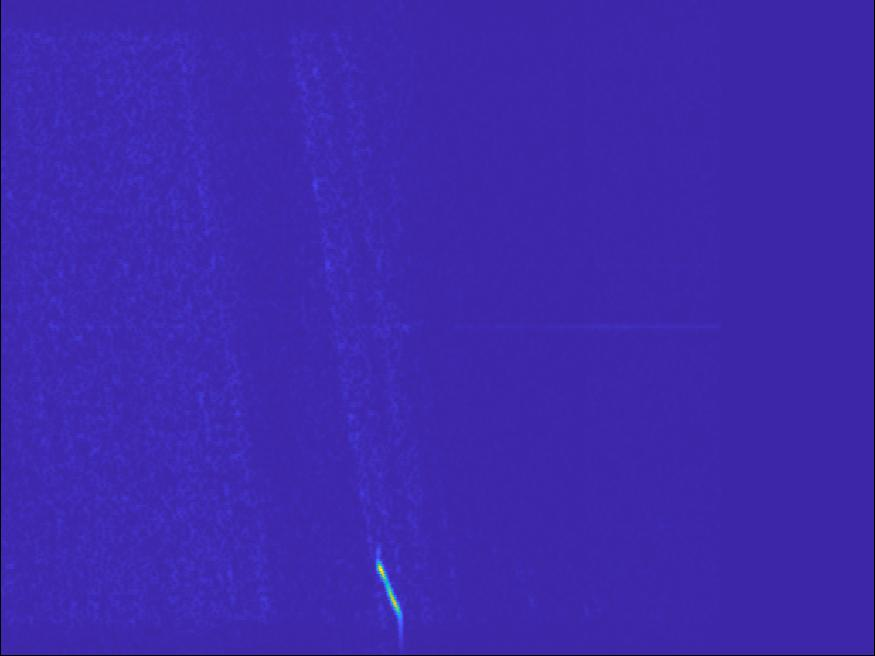Interference: (193, 142, 394, 258), (409, 270, 609, 366), (446, 393, 549, 441)
